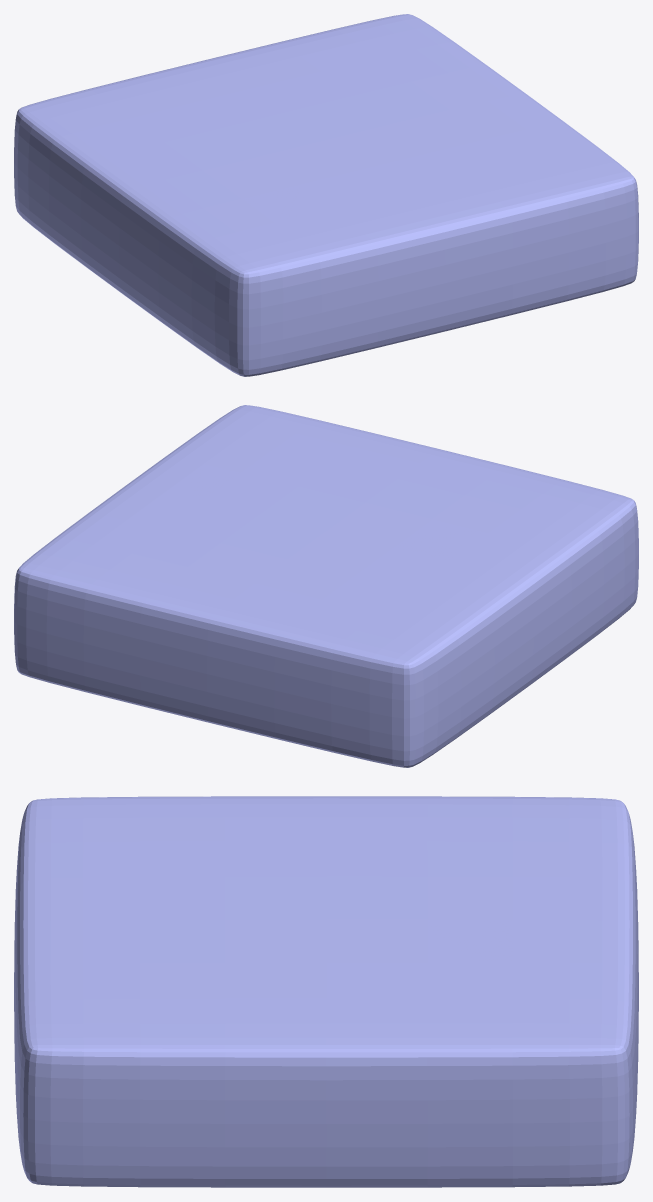
The model's file is drumbutton.glb.
3 renders of one model, top to bottom at view 1: azimuth 30°, elevation 25°; view 2: azimuth 150°, elevation 25°; view 3: azimuth 270°, elevation 25°, orthographic. The views are drawn at different scales.
Visible parts, largest first — view 1: Cube.002; view 2: Cube.002; view 3: Cube.002.
Boxes of the visible parts, x1,y1,x2,y2 form: Cube.002: [14, 14, 638, 376]; Cube.002: [14, 405, 638, 767]; Cube.002: [14, 796, 638, 1187].
Size of the model in its own units: 0.3621 by 0.0926 by 0.3621.
